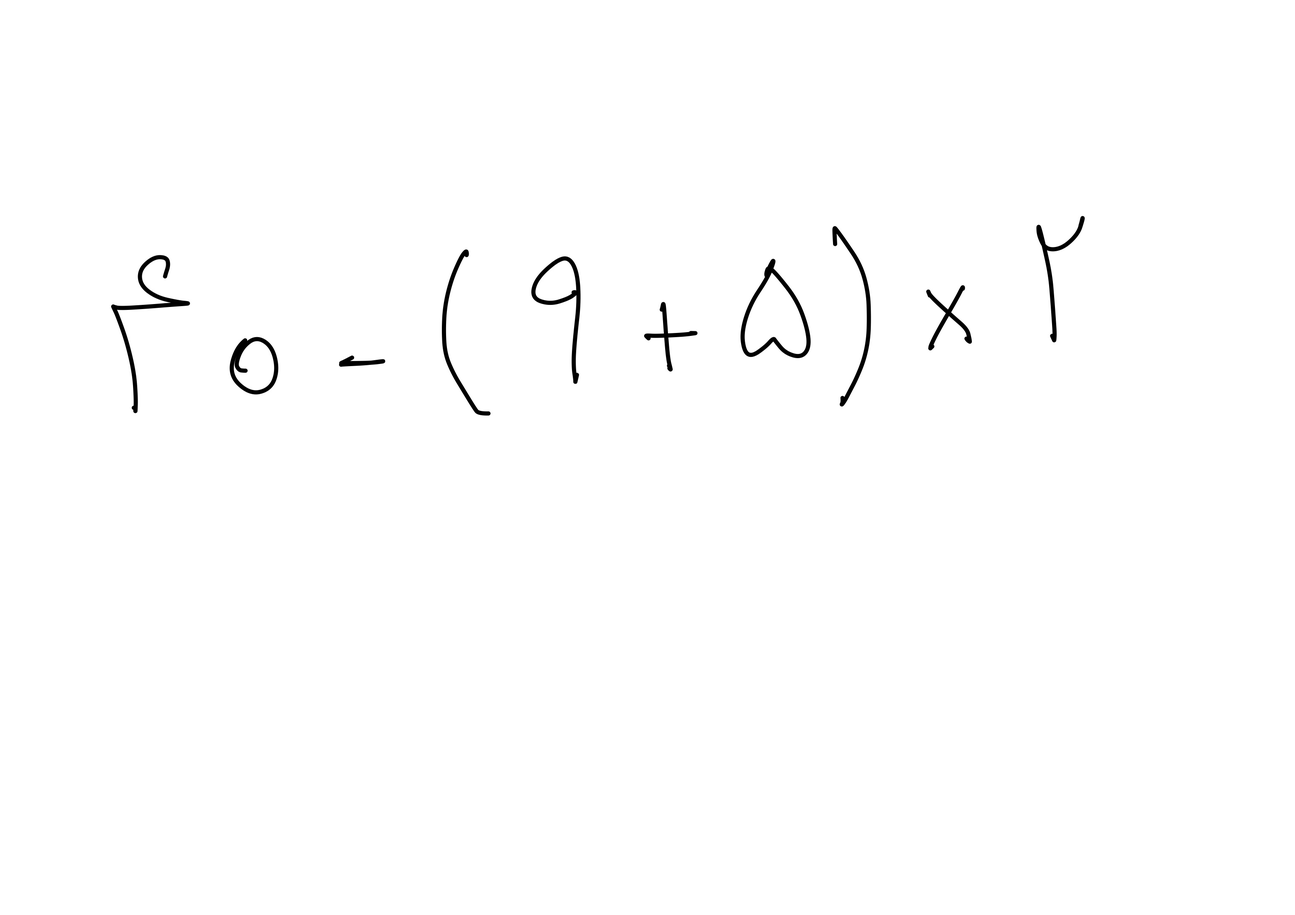character: (110, 253, 192, 415), (824, 225, 872, 405), (441, 249, 491, 419), (740, 257, 816, 361), (1035, 217, 1087, 349), (529, 257, 581, 385), (640, 299, 698, 373), (924, 285, 973, 349), (227, 337, 281, 395), (339, 355, 385, 369)
